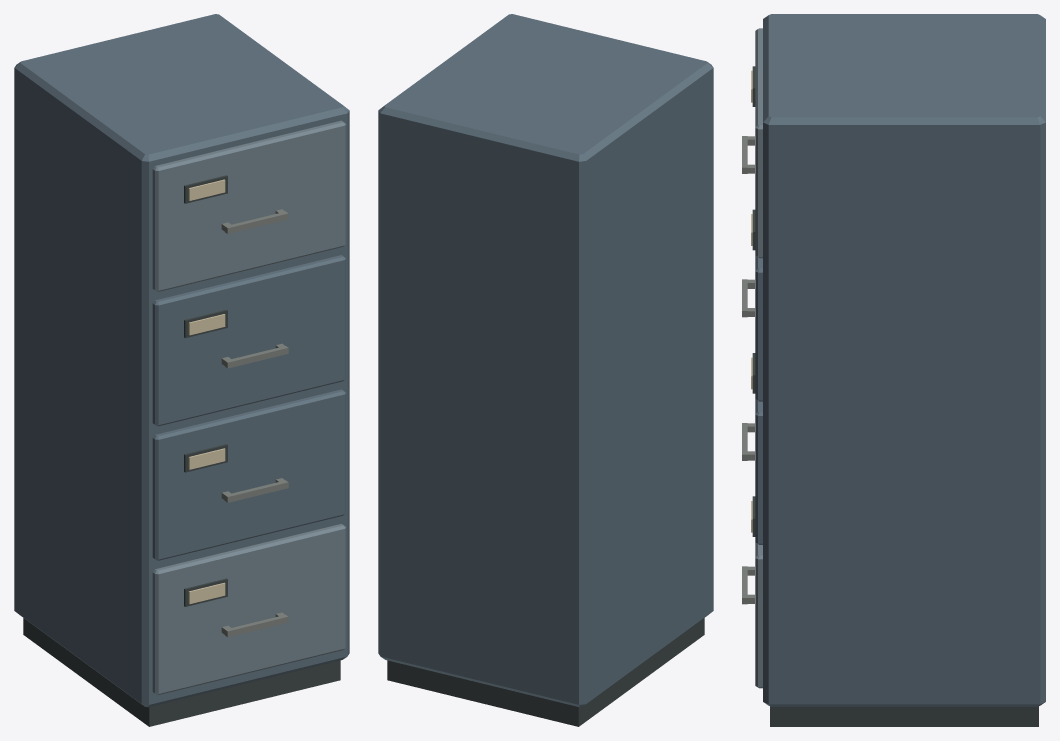
File: Bell_JobFilesCabinet.fbx
3 renders of one model, left to right at view 1: azimuth 30°, elevation 25°; view 2: azimuth 150°, elevation 25°; view 3: azimuth 270°, elevation 25°, orthographic. The views are drawn at different scales.
Visible parts, largest first — view 1: Bell_JobFilesCabinet; view 2: Bell_JobFilesCabinet; view 3: Bell_JobFilesCabinet.
Boxes of the visible parts, x1,y1,x2,y2 form: Bell_JobFilesCabinet: [14, 14, 349, 726]; Bell_JobFilesCabinet: [378, 14, 713, 726]; Bell_JobFilesCabinet: [742, 14, 1045, 726].
Bounding box in the file's own units: 0.55 × 1.45 × 0.653.
